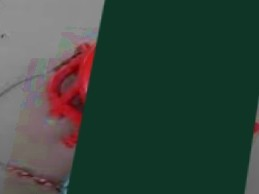chock: (21, 19, 259, 194)
